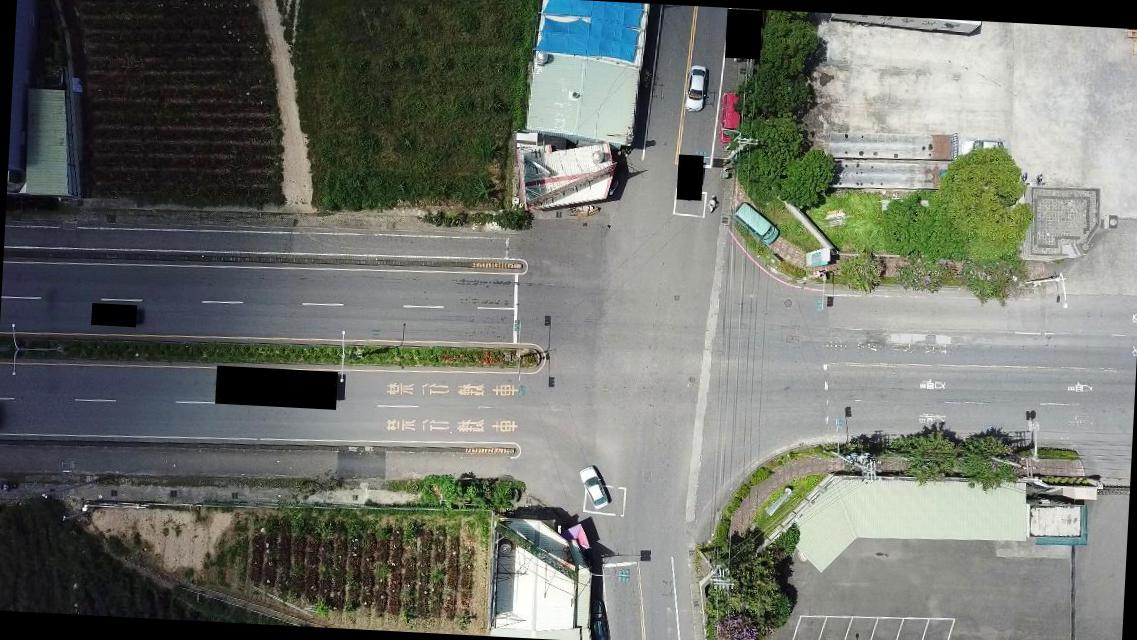vehicle: (730, 202, 778, 244), (678, 64, 708, 116), (578, 464, 608, 509), (718, 89, 740, 148), (586, 594, 614, 639), (960, 136, 1006, 158)
